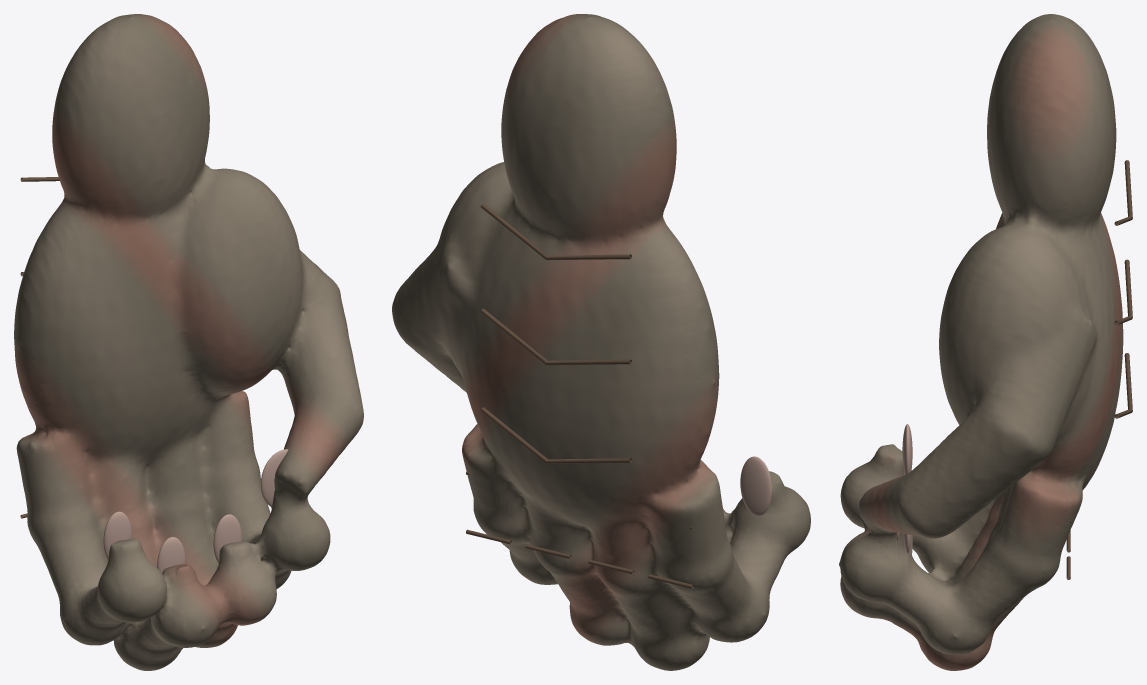
File: torch-grip.glb
The picture shows the model from 3 angles, left to right: view 1: azimuth 30°, elevation 25°; view 2: azimuth 150°, elevation 25°; view 3: azimuth 270°, elevation 25°; orthographic projection. The views are drawn at different scales.
Parts seen in each view (by area): view 1: AnatomicalHand, Fingernail.002, Fingernail, Fingernail.001, Thumbnail; view 2: AnatomicalHand, Fingernail, Palm fold.001, Palm fold.002, Palm fold; view 3: AnatomicalHand, Fingernail.
Part boxes in pixels (left/top/right/bottom): AnatomicalHand: left=14, top=14, right=363, bottom=670; Fingernail.002: left=213, top=514, right=241, bottom=562; Fingernail: left=103, top=511, right=131, bottom=559; Fingernail.001: left=157, top=537, right=185, bottom=573; Thumbnail: left=260, top=449, right=288, bottom=506; AnatomicalHand: left=392, top=14, right=810, bottom=670; Fingernail: left=740, top=456, right=771, bottom=515; Palm fold.001: left=480, top=308, right=631, bottom=365; Palm fold.002: left=480, top=203, right=631, bottom=260; Palm fold: left=480, top=407, right=631, bottom=463; AnatomicalHand: left=839, top=14, right=1123, bottom=670; Fingernail: left=902, top=424, right=912, bottom=474.
Size of the model in its own units: 0.1065 by 0.2066 by 0.0856.
